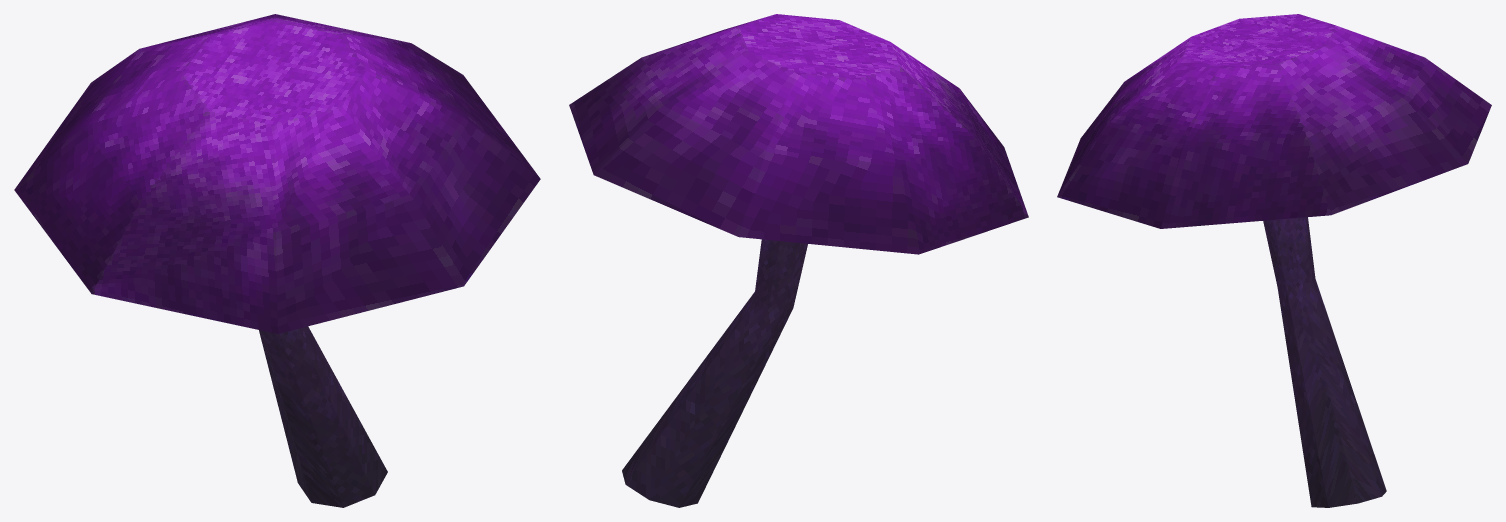
Rendered from shroom.glb.
The picture shows the model from 3 angles, left to right: view 1: azimuth 30°, elevation 25°; view 2: azimuth 150°, elevation 25°; view 3: azimuth 270°, elevation 25°; orthographic projection. The views are drawn at different scales.
Visible parts, largest first — view 1: Cylinder.004; view 2: Cylinder.004; view 3: Cylinder.004.
Part boxes in pixels (box(x1,y1,x2,y2)): Cylinder.004: box(14, 14, 540, 507); Cylinder.004: box(569, 14, 1028, 507); Cylinder.004: box(1057, 14, 1491, 507).
Size of the model in its own units: 4.87 by 5.31 by 4.87.
2 materials, 2 textured.
